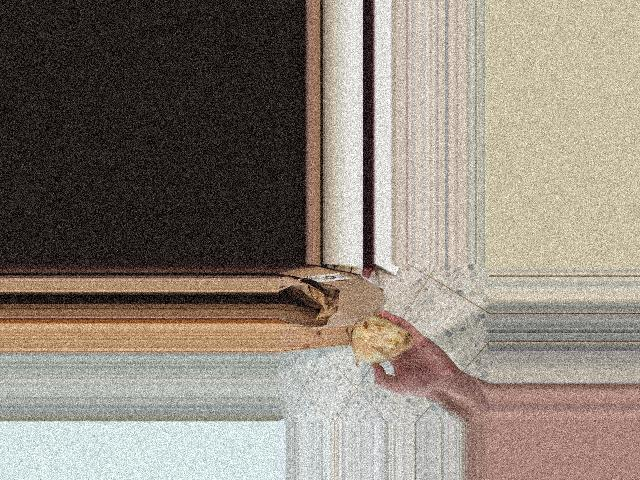onion: (344, 314, 418, 365)
